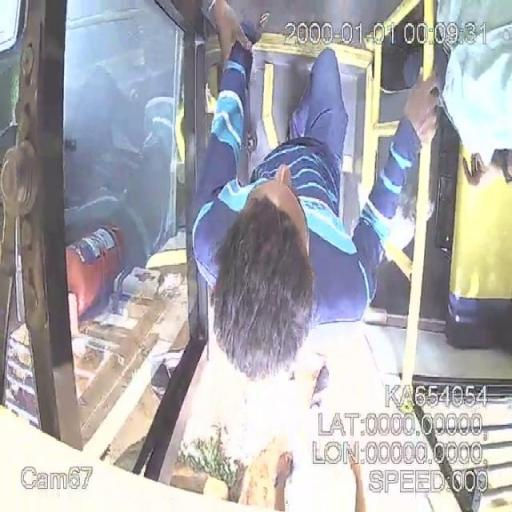persona: (189, 1, 445, 384)
